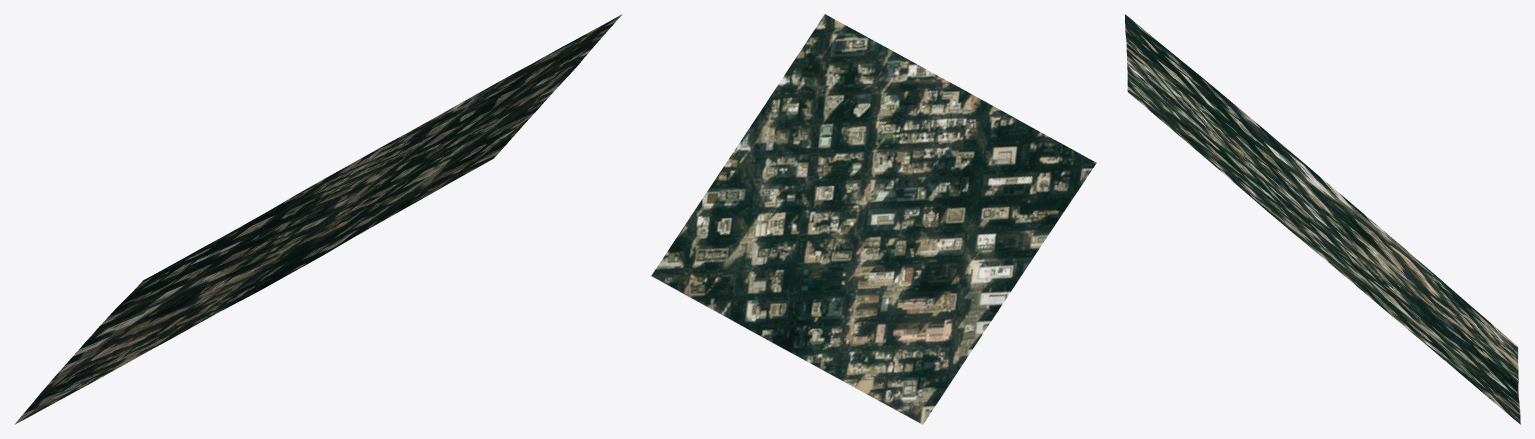
The picture shows the model from 3 angles, left to right: view 1: azimuth 30°, elevation 25°; view 2: azimuth 150°, elevation 25°; view 3: azimuth 270°, elevation 25°; orthographic projection. The views are drawn at different scales.
Size of the model in its own units: 1056 by 840 by 706.
1 material, 1 textured.
